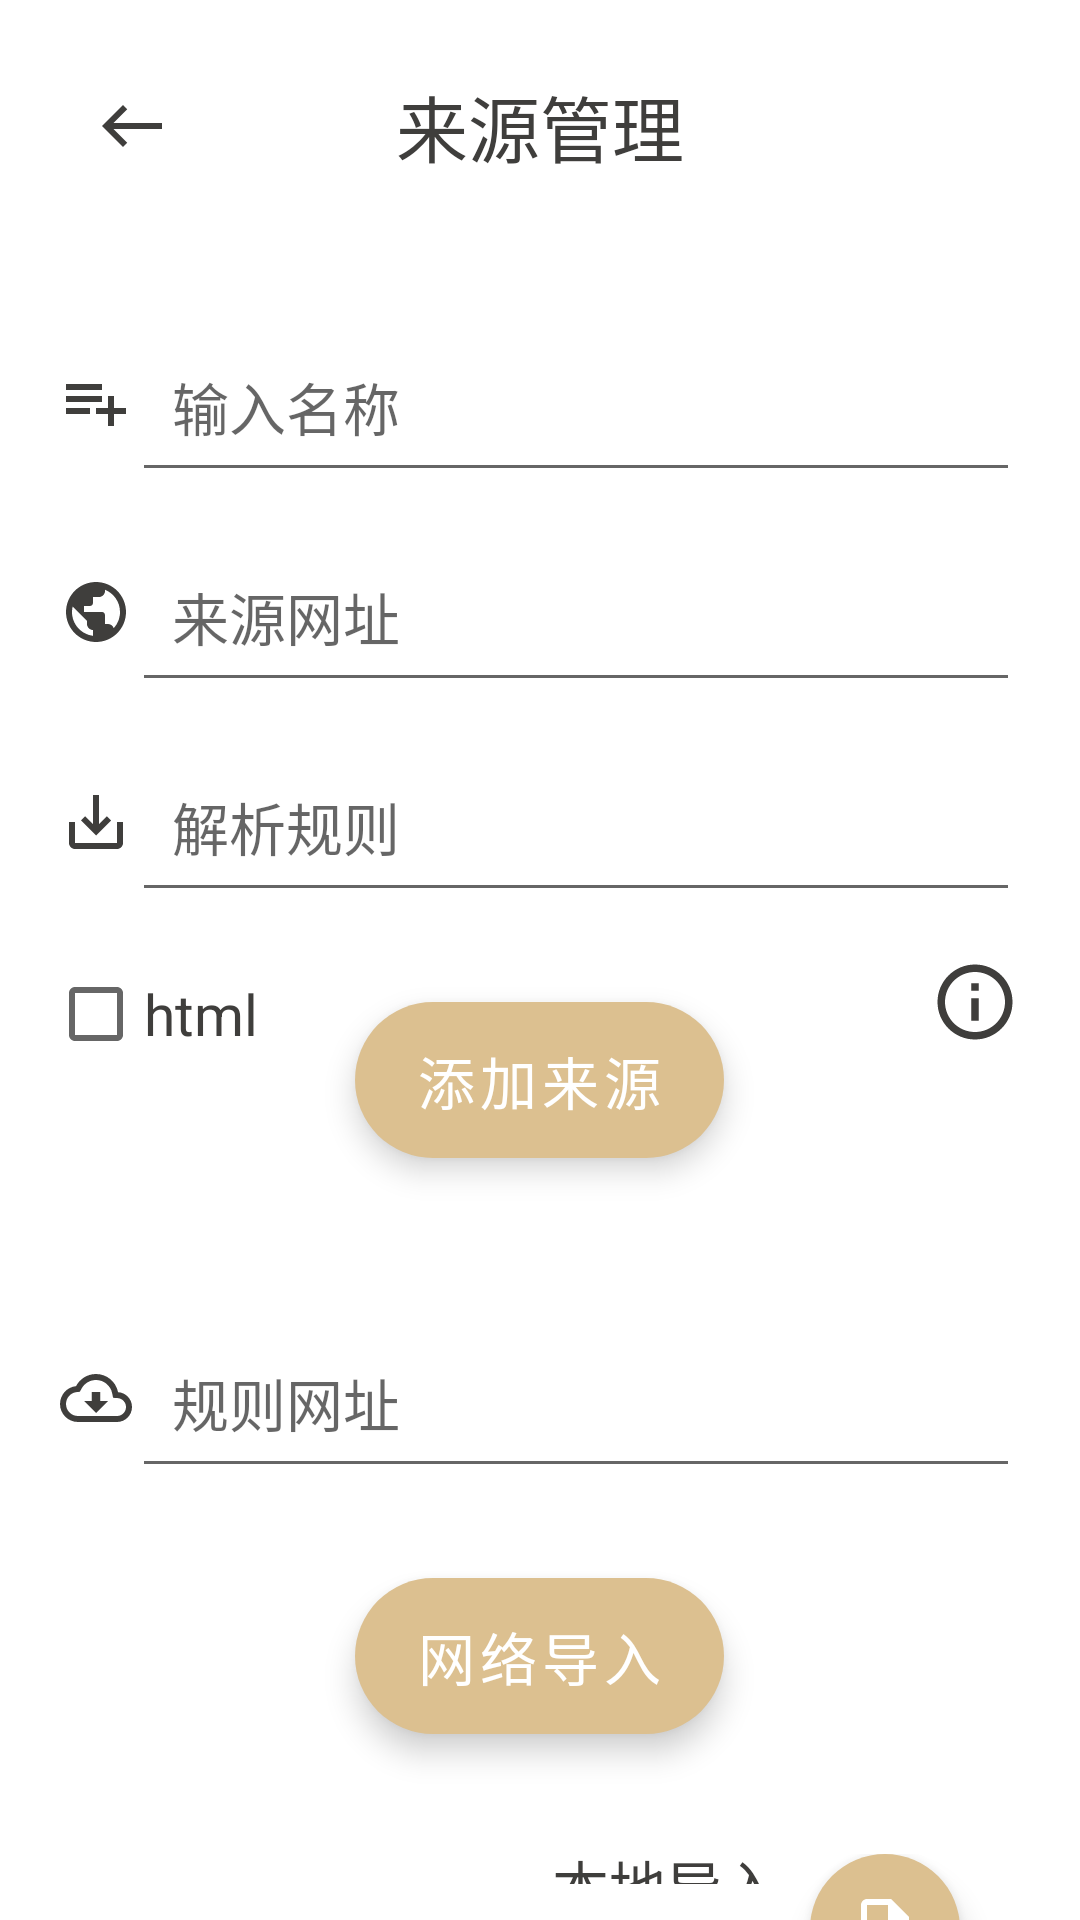

Locate icon controls on the screen. Image size 1080px×1920px, boxes as (x1, y1, x2, y2).
info: (937, 964, 1013, 1040)
playlist add: (66, 384, 126, 426)
返回: (102, 105, 162, 147)
